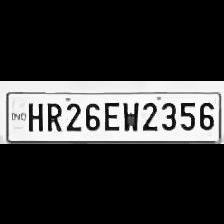2: (138, 97, 158, 131), (63, 98, 81, 132)
3: (158, 97, 176, 130)
5: (176, 97, 196, 130)
6: (80, 98, 100, 130), (196, 98, 216, 130)
E: (100, 97, 119, 130)
H: (23, 97, 44, 130)
R: (42, 97, 62, 130)
W: (120, 97, 140, 130)
